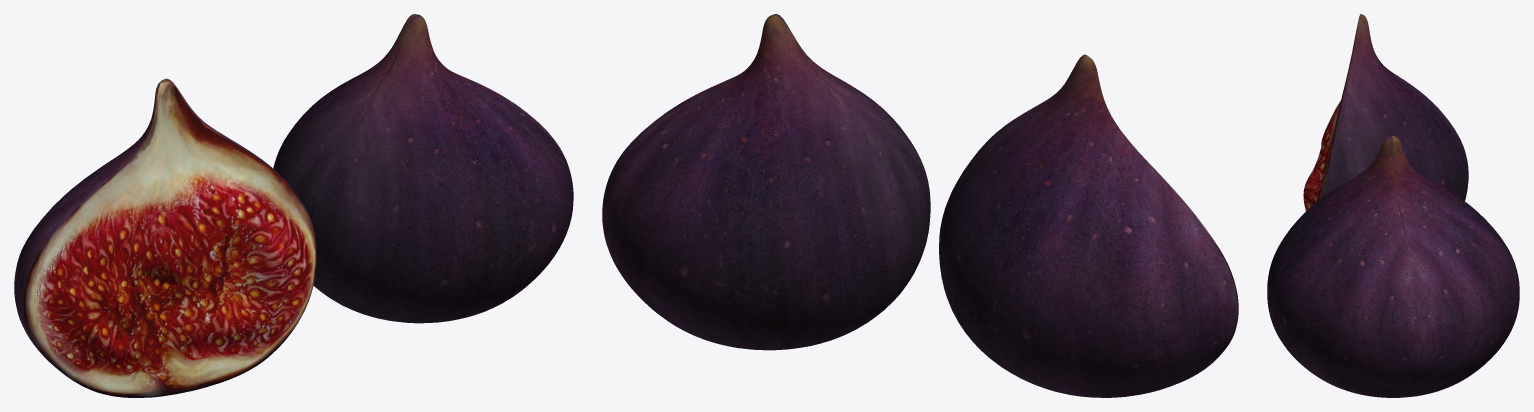
Rendered from fig.glb.
The picture shows the model from 3 angles, left to right: view 1: azimuth 30°, elevation 25°; view 2: azimuth 150°, elevation 25°; view 3: azimuth 270°, elevation 25°; orthographic projection. The views are drawn at different scales.
Parts seen in each view (by area): view 1: fig half 1, fig whole 1; view 2: fig whole 1, fig half 1; view 3: fig whole 1, fig half 1.
Part boxes in pixels (x1,y1,x2,y2): fig half 1: [14, 78, 316, 397]; fig whole 1: [273, 14, 573, 323]; fig whole 1: [602, 14, 930, 350]; fig half 1: [939, 54, 1238, 397]; fig whole 1: [1267, 135, 1519, 397]; fig half 1: [1303, 14, 1468, 210].
Size of the model in its own units: 159 by 84.18 by 76.15.
Materials: 3 (3 with a texture image).
